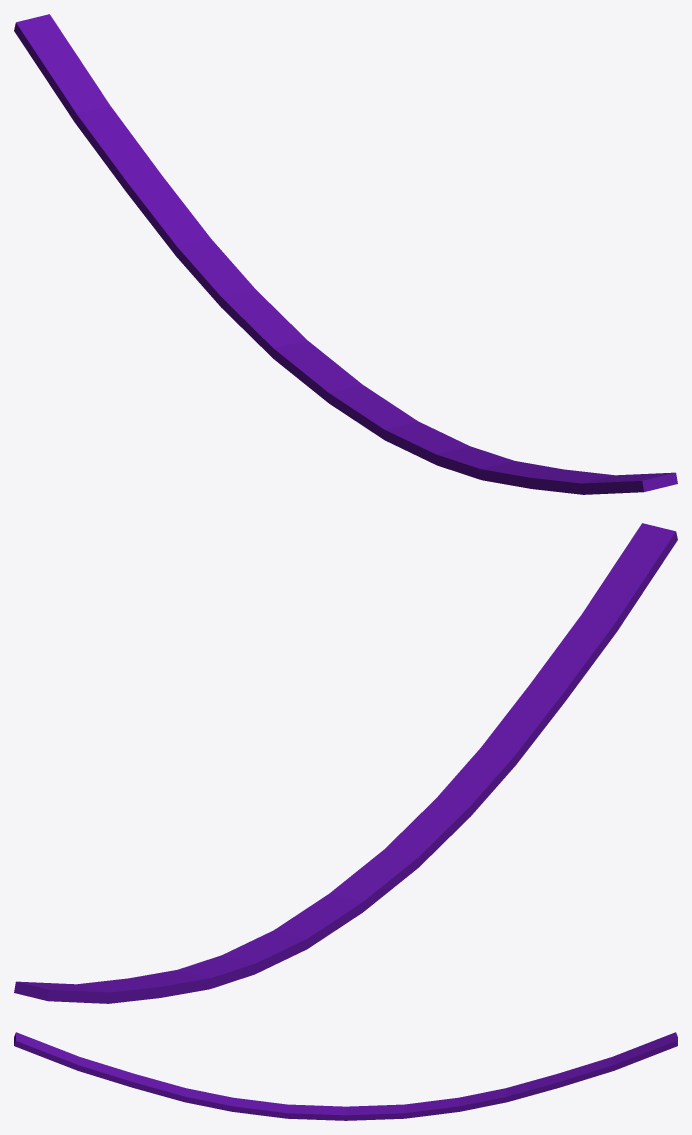
The model's file is Tape_5_chunks.fbx.
The picture shows the model from 3 angles, top to bottom: view 1: azimuth 30°, elevation 25°; view 2: azimuth 150°, elevation 25°; view 3: azimuth 270°, elevation 25°; orthographic projection. The views are drawn at different scales.
Parts seen in each view (by area): view 1: Tape_5_0, Tape_5_1, Tape_5_3, Tape_5_2; view 2: Tape_5_3, Tape_5_1, Tape_5_0, Tape_5_2; view 3: Tape_5_3, Tape_5_0, Tape_5_1, Tape_5_2.
Part boxes in pixels (bbox=[...]): Tape_5_0: bbox=[14, 14, 211, 273]; Tape_5_1: bbox=[181, 239, 383, 406]; Tape_5_3: bbox=[379, 399, 677, 494]; Tape_5_2: bbox=[331, 394, 444, 467]; Tape_5_3: bbox=[350, 523, 677, 877]; Tape_5_1: bbox=[178, 877, 367, 987]; Tape_5_0: bbox=[14, 969, 234, 1003]; Tape_5_2: bbox=[357, 807, 477, 907]; Tape_5_3: bbox=[14, 1032, 323, 1119]; Tape_5_0: bbox=[481, 1032, 677, 1097]; Tape_5_1: bbox=[319, 1093, 521, 1120]; Tape_5_2: bbox=[236, 1098, 342, 1112].
Bounding box in the file's own units: 24.08 × 103 × 776.
